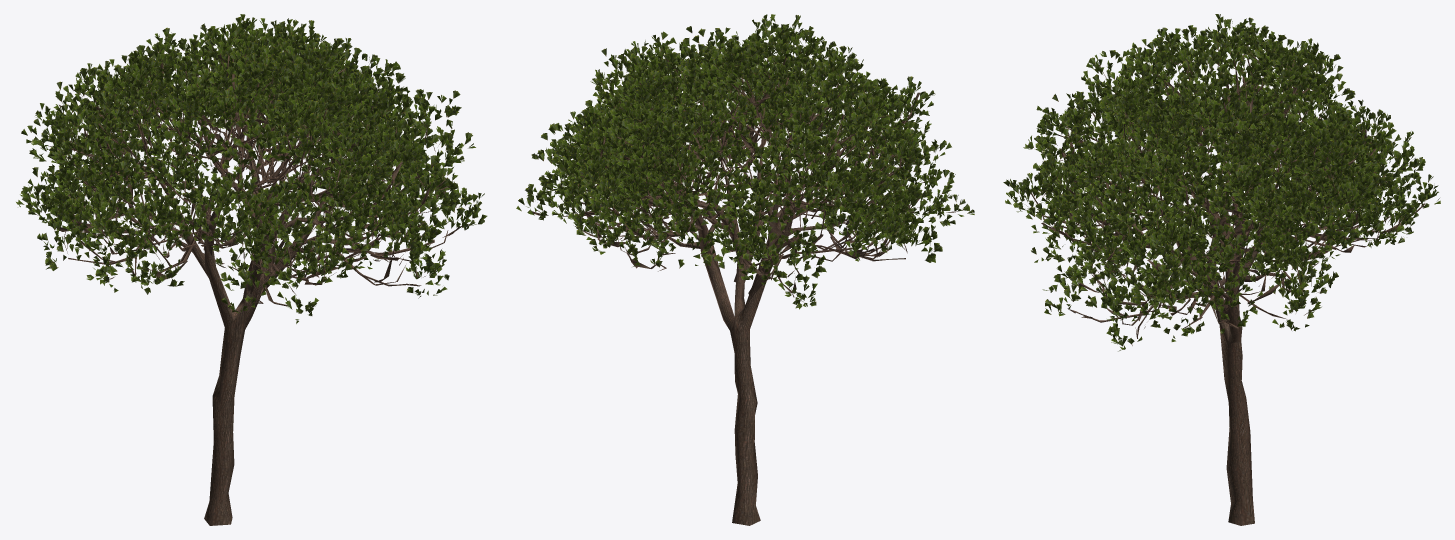
File: pinus_pinea.dae
3 views of the same model, side by side, from view 1: azimuth 30°, elevation 25°; view 2: azimuth 150°, elevation 25°; view 3: azimuth 270°, elevation 25° (orthographic). The views are drawn at different scales.
Visible parts, largest first — view 1: Pinus_pinea_15k; view 2: Pinus_pinea_15k; view 3: Pinus_pinea_15k.
Boxes of the visible parts, bbox=[...] form: Pinus_pinea_15k: bbox=[16, 14, 487, 525]; Pinus_pinea_15k: bbox=[516, 14, 974, 525]; Pinus_pinea_15k: bbox=[1003, 14, 1440, 525].
Size of the model in its own units: 5.59 by 5.38 by 6.4.
2 materials, 2 textured.
